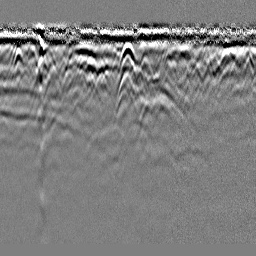cavity: (118, 41, 138, 73)
